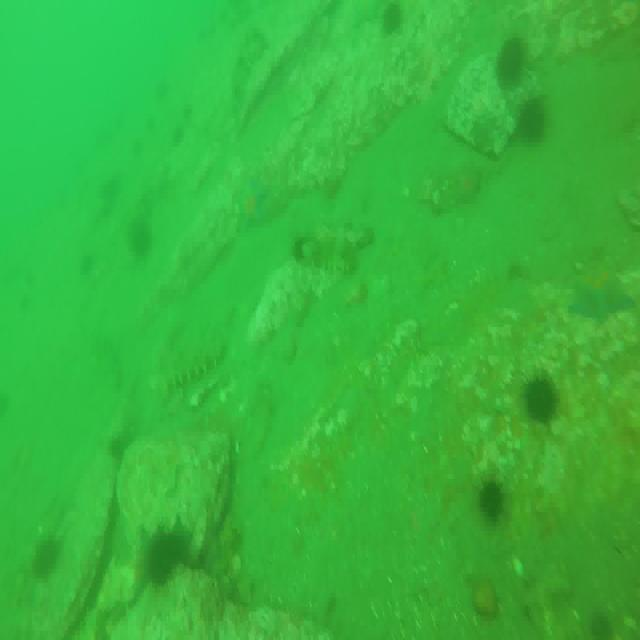echinus: (144, 524, 188, 586), (528, 372, 560, 430), (497, 39, 527, 93), (34, 532, 61, 582), (479, 476, 507, 520), (520, 95, 545, 144), (129, 223, 153, 256), (384, 0, 403, 37)
holothurian: (158, 332, 232, 390), (293, 235, 359, 274)
starfish: (568, 271, 635, 325), (238, 184, 268, 229)
